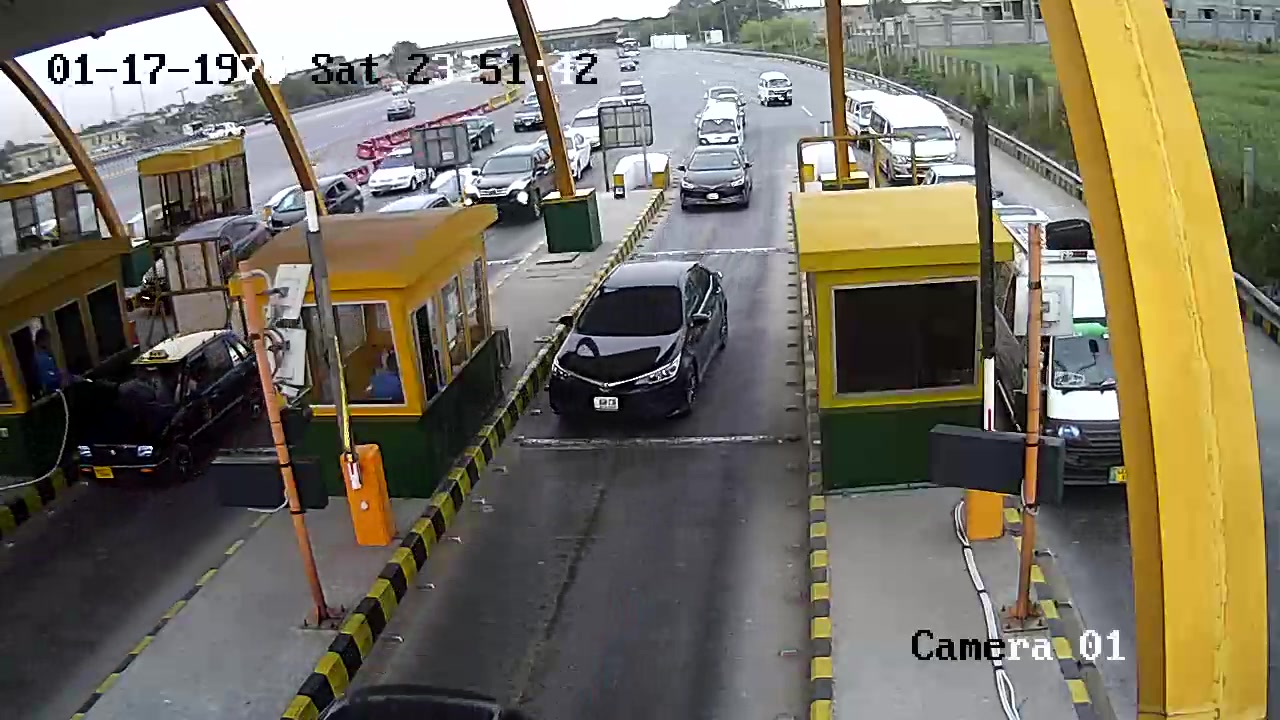F1: (521, 254, 748, 445)
